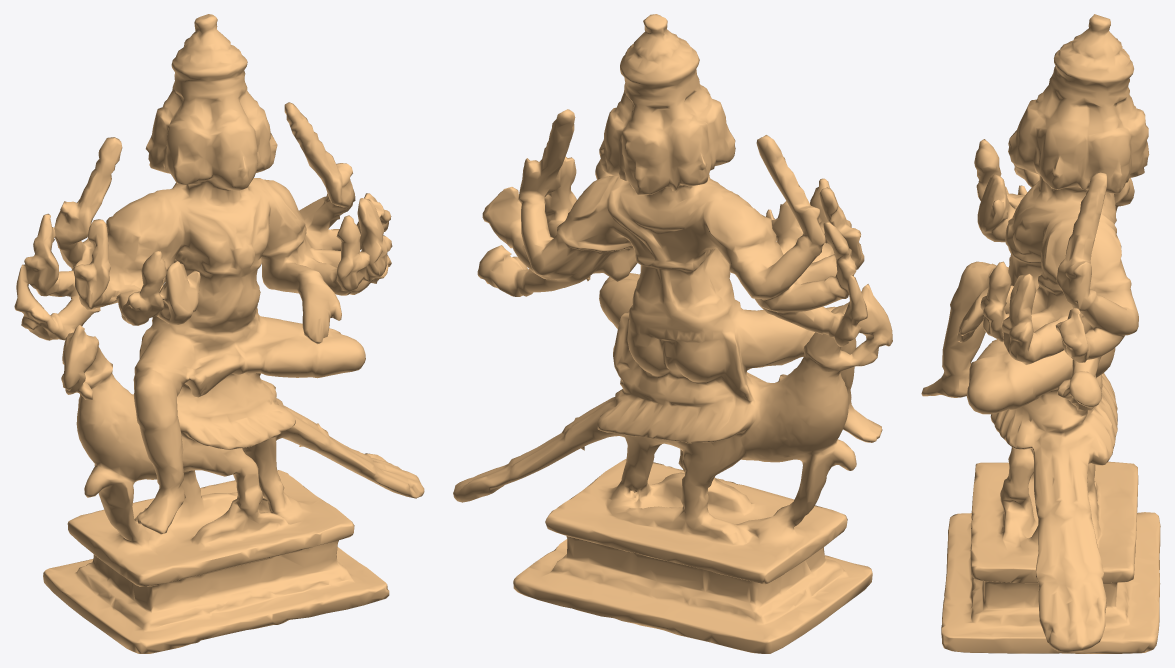
File: Saivam_Shanmugam_14.glb
3 views of the same model, side by side, from view 1: azimuth 30°, elevation 25°; view 2: azimuth 150°, elevation 25°; view 3: azimuth 270°, elevation 25° (orthographic). The views are drawn at different scales.
Parts seen in each view (by area): view 1: Saivam_Shanmugam_14; view 2: Saivam_Shanmugam_14; view 3: Saivam_Shanmugam_14.
Part boxes in pixels (left/top/right/bottom): Saivam_Shanmugam_14: left=14, top=14, right=424, bottom=653; Saivam_Shanmugam_14: left=453, top=14, right=892, bottom=653; Saivam_Shanmugam_14: left=921, top=14, right=1160, bottom=653.
Size of the model in its own units: 0.3471 by 0.4652 by 0.1729.
